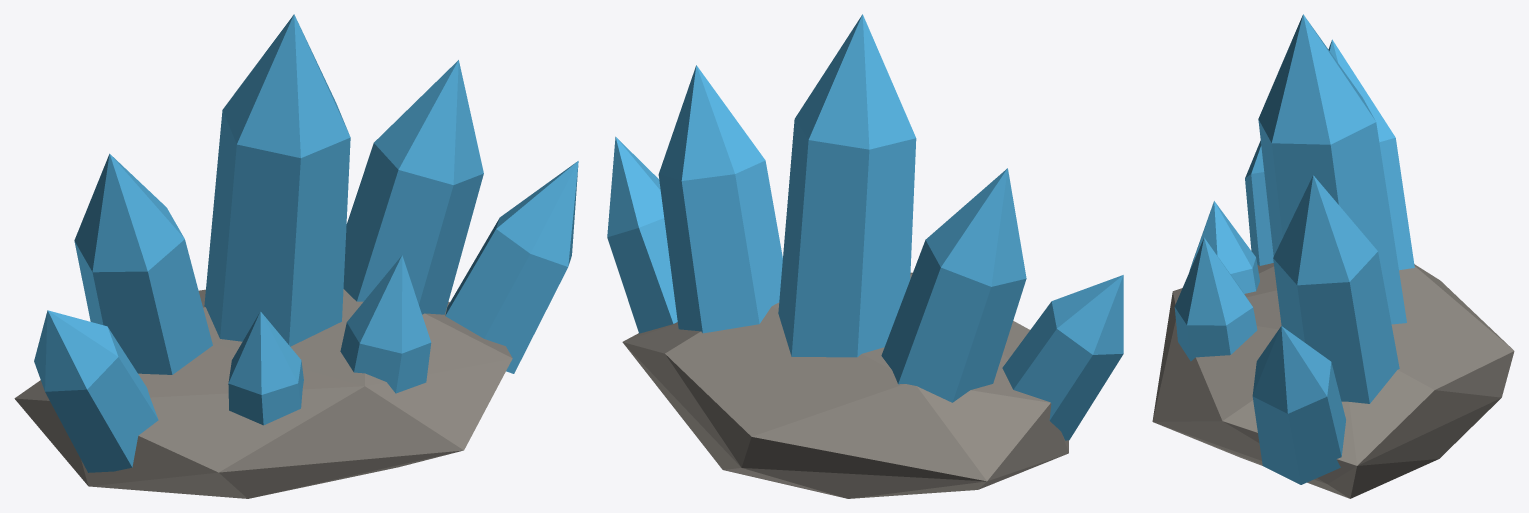
Rendered from Lodge_CrystalCluster_Blue.fbx.
The picture shows the model from 3 angles, left to right: view 1: azimuth 30°, elevation 25°; view 2: azimuth 150°, elevation 25°; view 3: azimuth 270°, elevation 25°; orthographic projection. The views are drawn at different scales.
Parts seen in each view (by area): view 1: Crystal1, Base, Crystal2; view 2: Crystal1, Base, Crystal2; view 3: Crystal1, Base, Crystal2.
Part boxes in pixels (<box>): Crystal1: <box>204,14,578,425</box>; Base: <box>14,289,512,498</box>; Crystal2: <box>34,153,431,472</box>; Crystal1: <box>607,14,916,357</box>; Base: <box>622,272,1068,498</box>; Crystal2: <box>881,168,1123,440</box>; Crystal1: <box>1189,14,1406,484</box>; Base: <box>1152,263,1514,498</box>; Crystal2: <box>1174,39,1414,361</box>.
Size of the model in its own units: 1.69 by 1.34 by 1.07.
